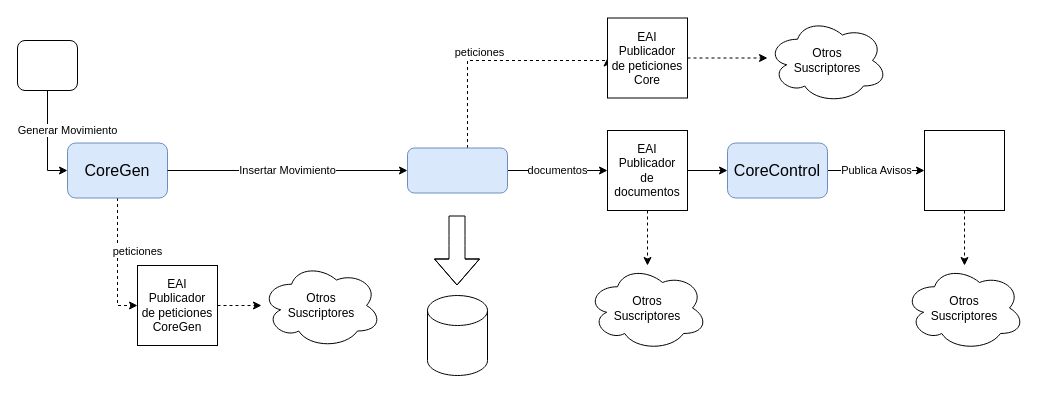
This 1042x393 diagram has some shape labels left out. Each missing label, with the centre of its shape:
Core: [457,170]
DB2: [457,335]
Otros Origenes: [47,65]
Publicador de avisos: [964,170]
